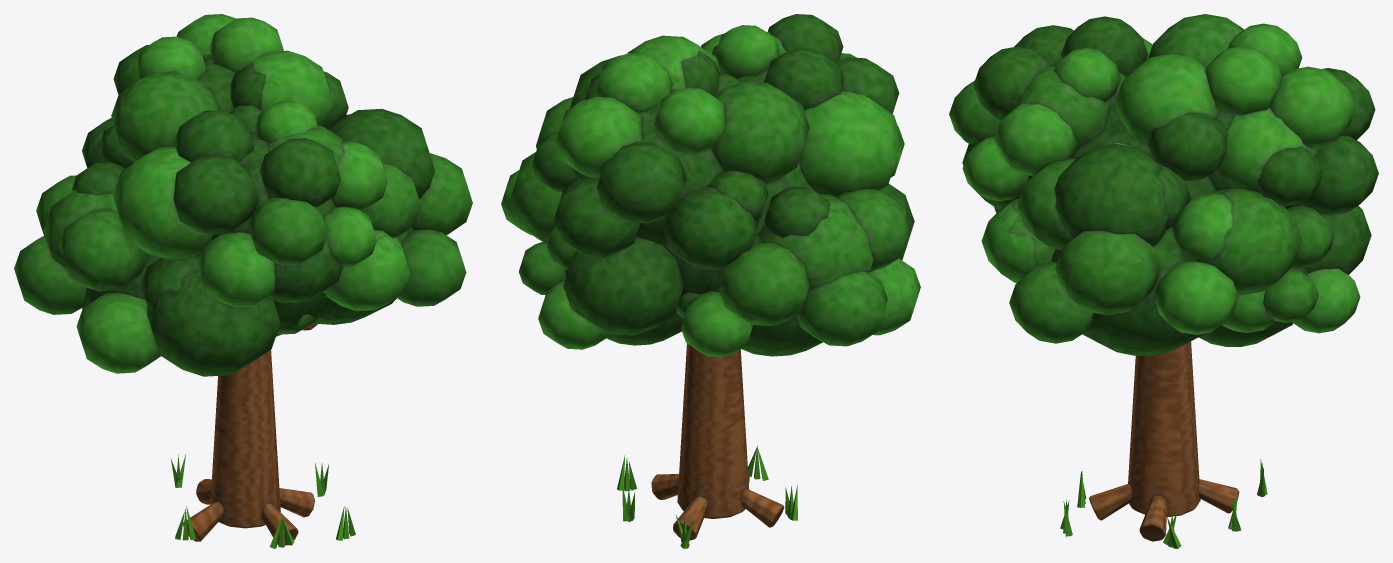
Rendered from chestnut_tree.glb.
3 renders of one model, left to right at view 1: azimuth 30°, elevation 25°; view 2: azimuth 150°, elevation 25°; view 3: azimuth 270°, elevation 25°, orthographic. The views are drawn at different scales.
Parts seen in each view (by area): view 1: crown, chestnut_tree; view 2: crown, chestnut_tree; view 3: crown, chestnut_tree.
Boxes of the visible parts, x1,y1,x2,y2 form: crown: (14,14,472,376); chestnut_tree: (171,323,355,548); crown: (501,14,920,357); chestnut_tree: (617,343,797,548); crown: (949,14,1378,355); chestnut_tree: (1060,341,1267,548).
Bounding box in the file's own units: 1.14 × 1.3 × 1.05.
Materials: 1 (1 with a texture image).
